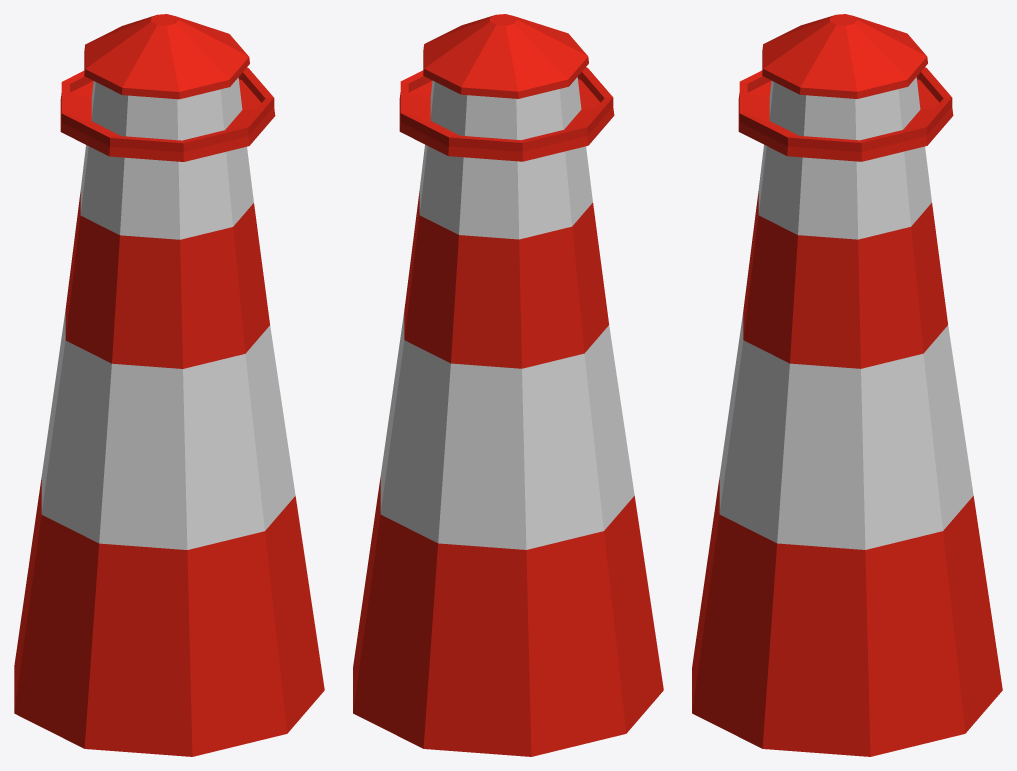
File: LightHouse.fbx
3 views of the same model, side by side, from view 1: azimuth 30°, elevation 25°; view 2: azimuth 150°, elevation 25°; view 3: azimuth 270°, elevation 25° (orthographic).
Visible parts, largest first — view 1: Cylinder; view 2: Cylinder; view 3: Cylinder.
Boxes of the visible parts, x1,y1,x2,y2 form: Cylinder: [14, 14, 324, 756]; Cylinder: [353, 14, 663, 756]; Cylinder: [692, 14, 1002, 756].
Size of the model in its own units: 241 by 565 by 237.
